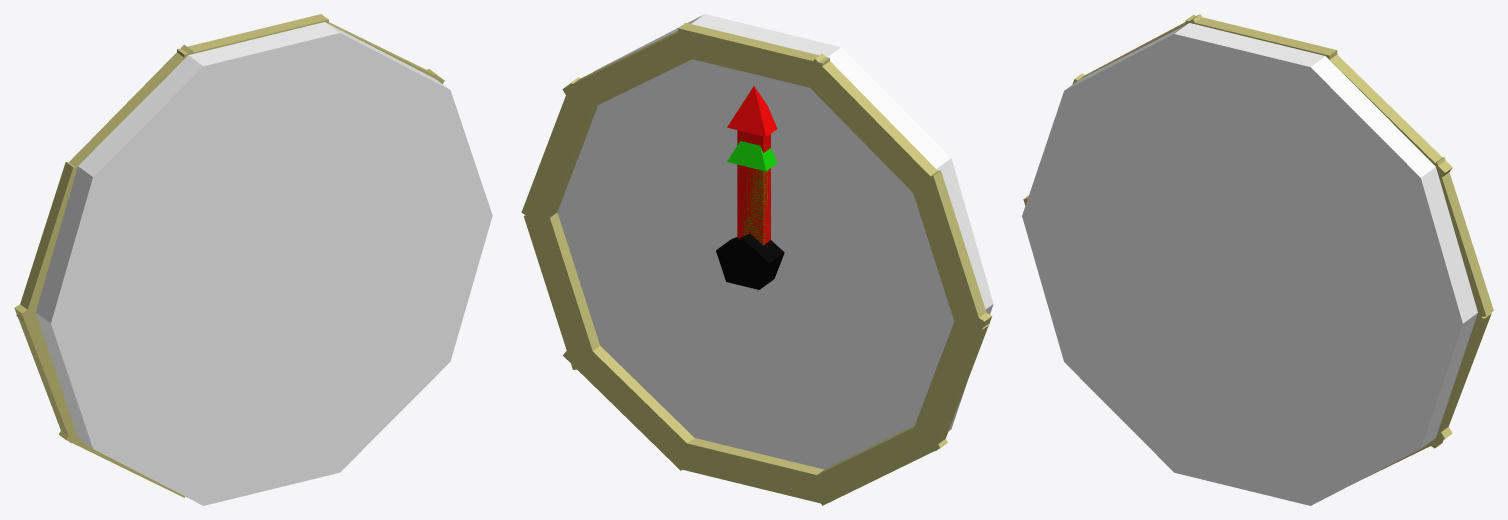
File: clock.dae
3 views of the same model, side by side, from view 1: azimuth 30°, elevation 25°; view 2: azimuth 150°, elevation 25°; view 3: azimuth 330°, elevation 25° (orthographic).
Visible parts, largest first — view 1: cylinder, cube (×5); view 2: cylinder (×2), cube (×12), pyramid (×2); view 3: cylinder, cube (×4).
Boxes of the visible parts, x1,y1,x2,y2 form: cylinder: (35,22,492,505); cube (×5): (14,14,328,497); cylinder (×2): (557,14,993,469); cube (×12): (521,23,992,505); pyramid (×2): (727,86,777,171); cylinder: (1022,23,1477,505); cube (×4): (1185,15,1493,448).
Size of the model in its own units: 1.1 by 1.01 by 0.125.
Materials: 5 (5 with a texture image).
